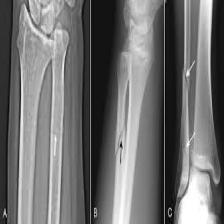impacted-fracture: (5, 0, 224, 224)
